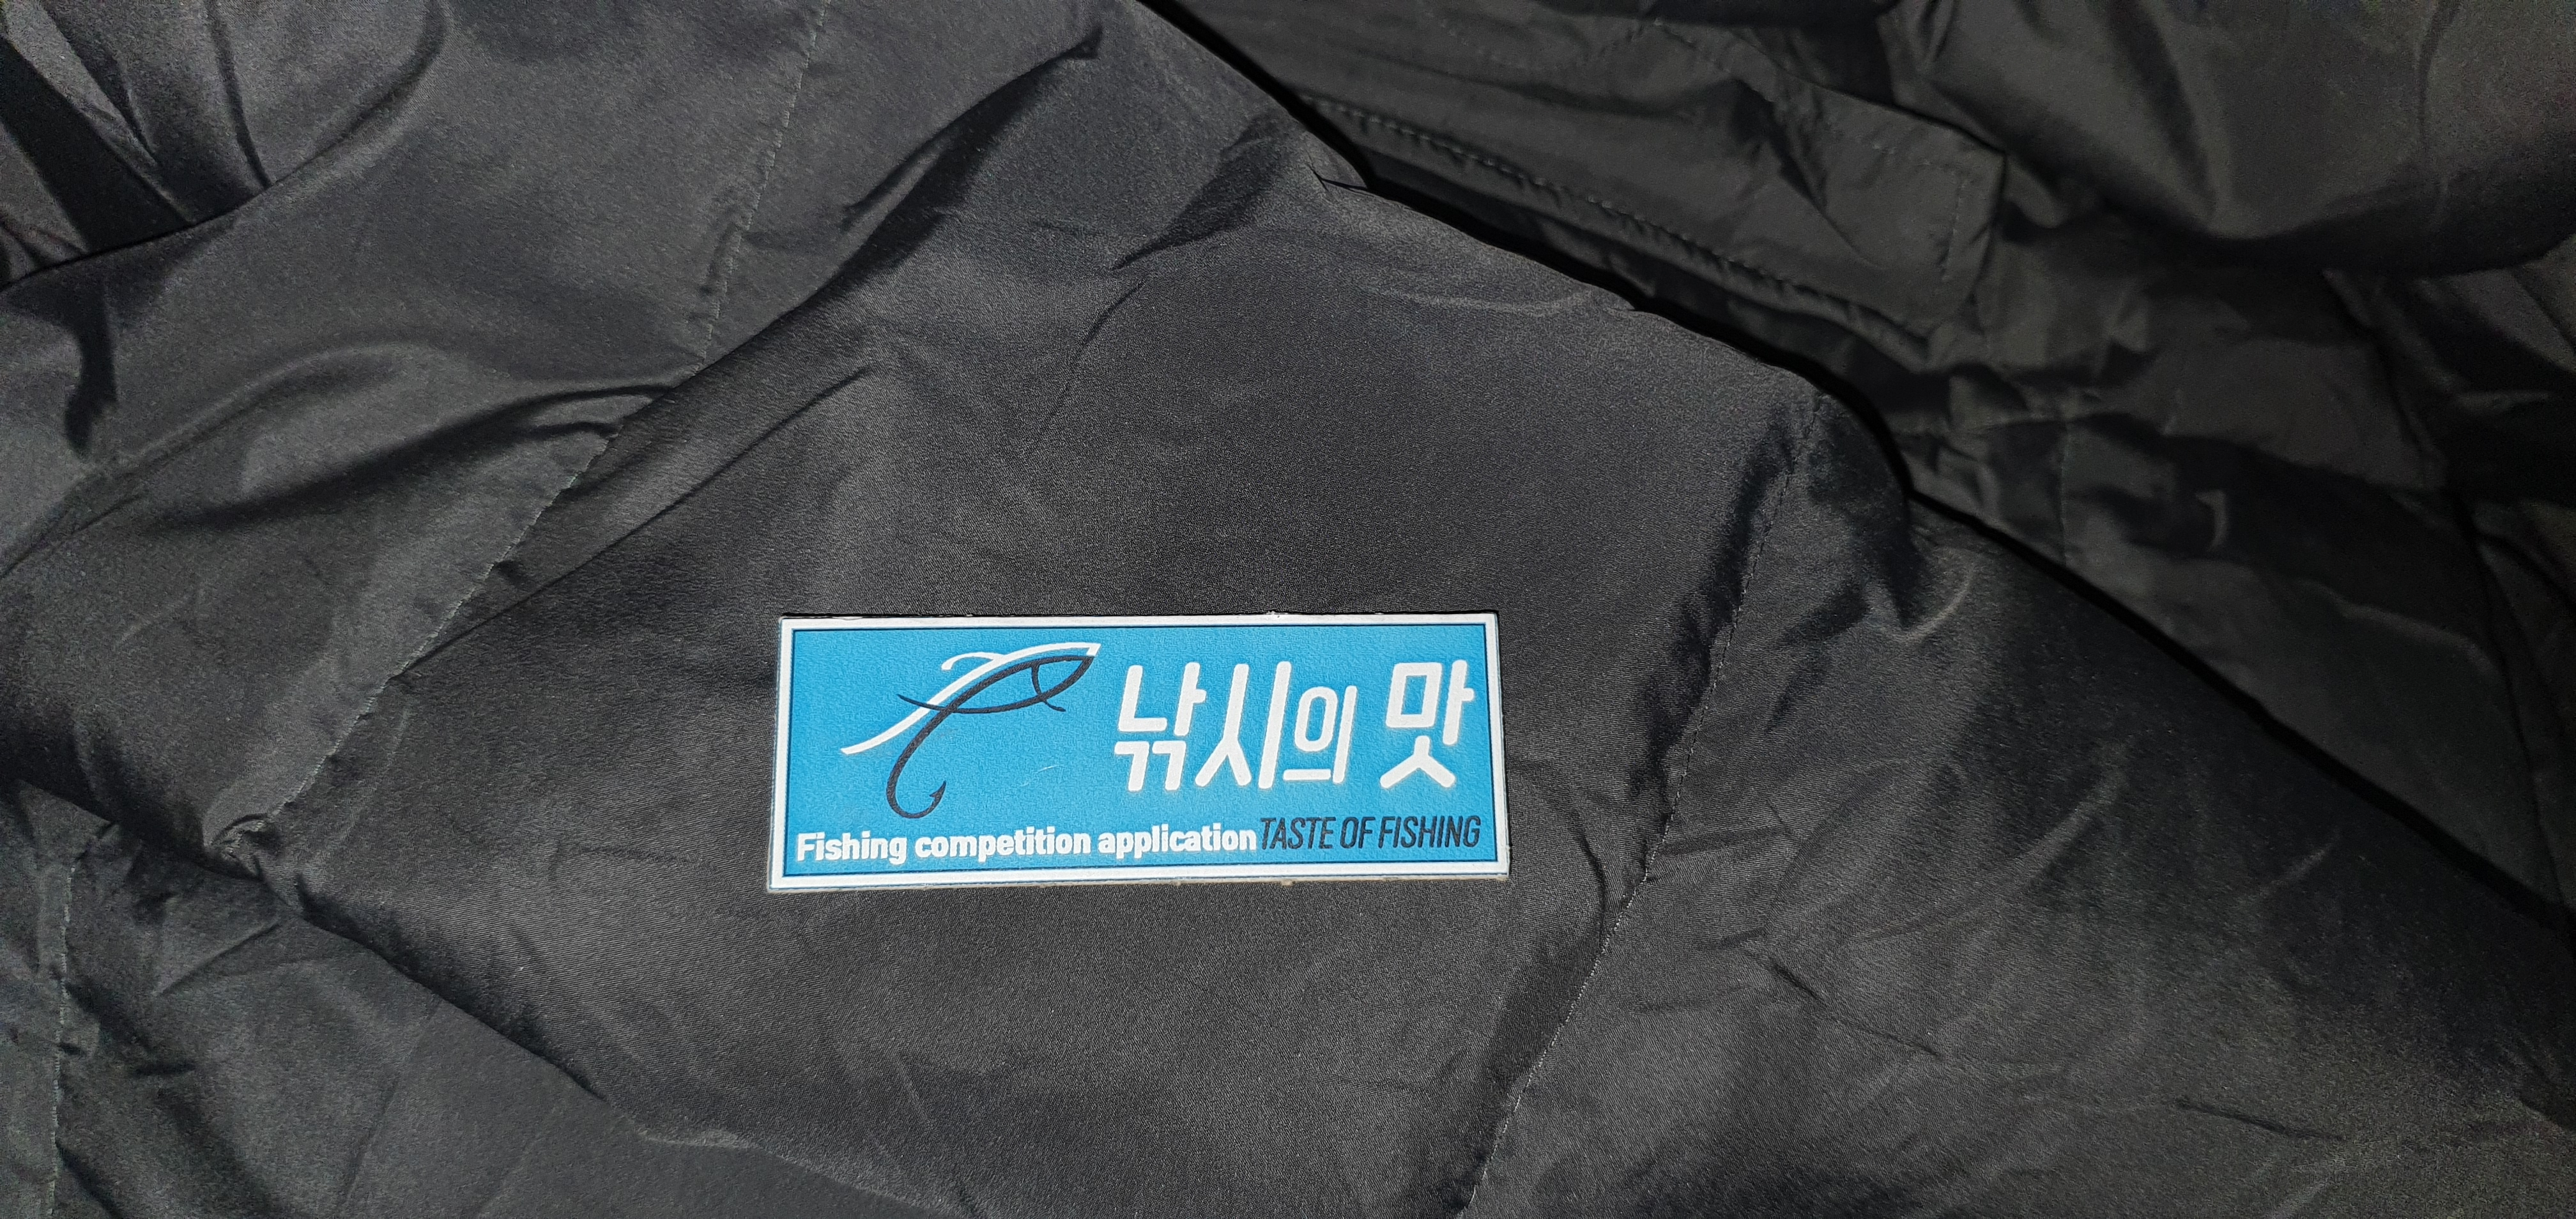tag: (772, 614, 1516, 884)
